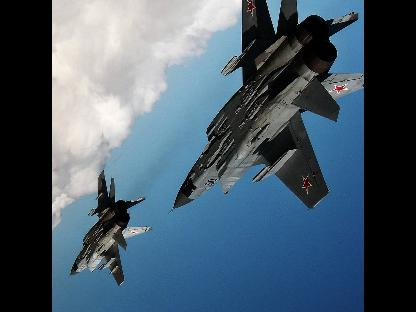Mig31: (168, 0, 364, 214), (68, 169, 154, 285)
